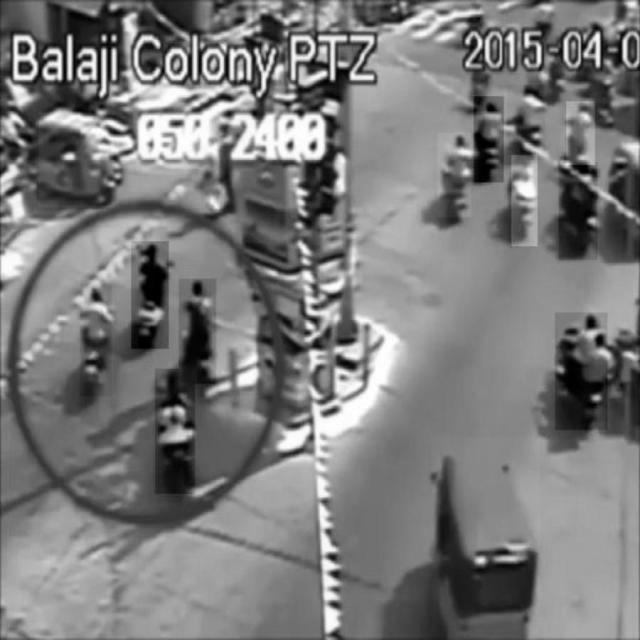vehicle: (433, 436, 541, 634), (39, 113, 113, 207), (555, 312, 607, 430), (156, 369, 196, 493), (132, 241, 169, 349), (180, 279, 217, 383), (559, 162, 597, 260), (80, 284, 110, 396), (438, 133, 472, 217), (509, 85, 546, 156), (474, 97, 504, 183), (511, 154, 537, 246), (567, 101, 595, 165)
